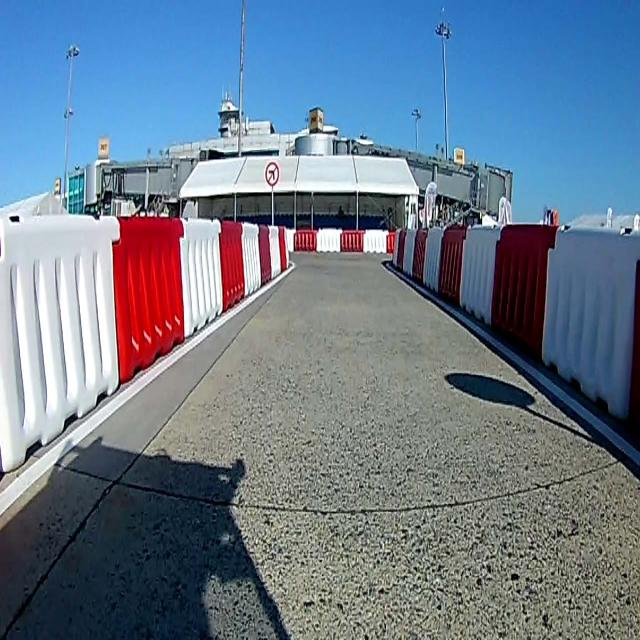soladonulmez: (265, 162, 279, 186)
